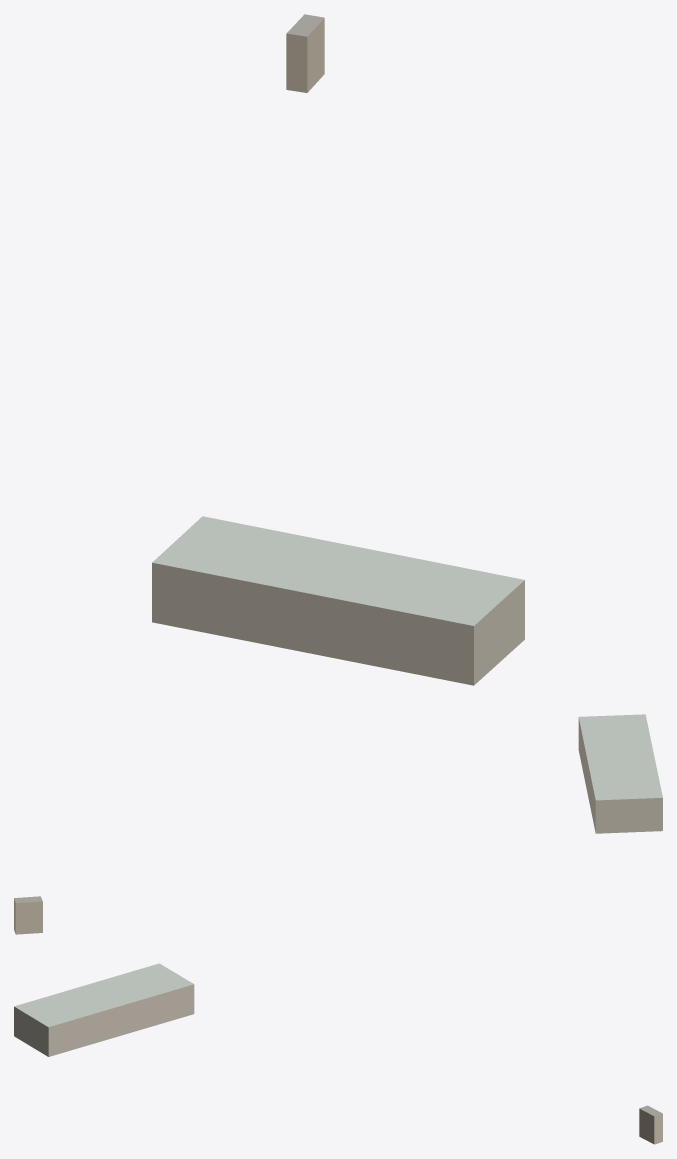
The picture shows the model from 3 angles, top to bottom: view 1: azimuth 30°, elevation 25°; view 2: azimuth 150°, elevation 25°; view 3: azimuth 270°, elevation 25°; orthographic projection. The views are drawn at different scales.
Parts seen in each view (by area): view 1: tuile; view 2: tuile; view 3: tuile.
Part boxes in pixels (left/top/right/bottom): tuile: left=152, top=14, right=524, bottom=685; tuile: left=14, top=714, right=662, bottom=934; tuile: left=14, top=963, right=662, bottom=1144.
Bounding box in the file's own units: 85.9 × 9.76 × 145.
